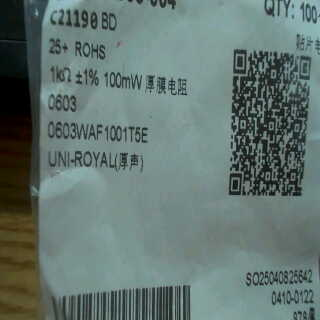1kR: (44, 60, 75, 90)
